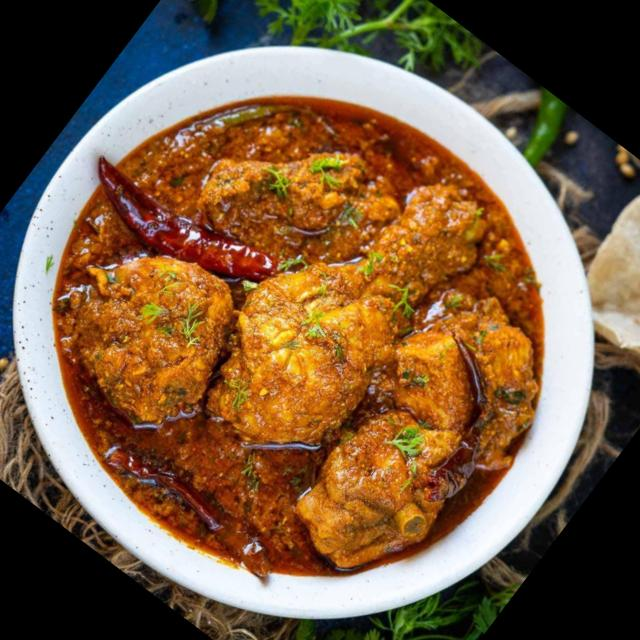chicken: (0, 21, 619, 640)
